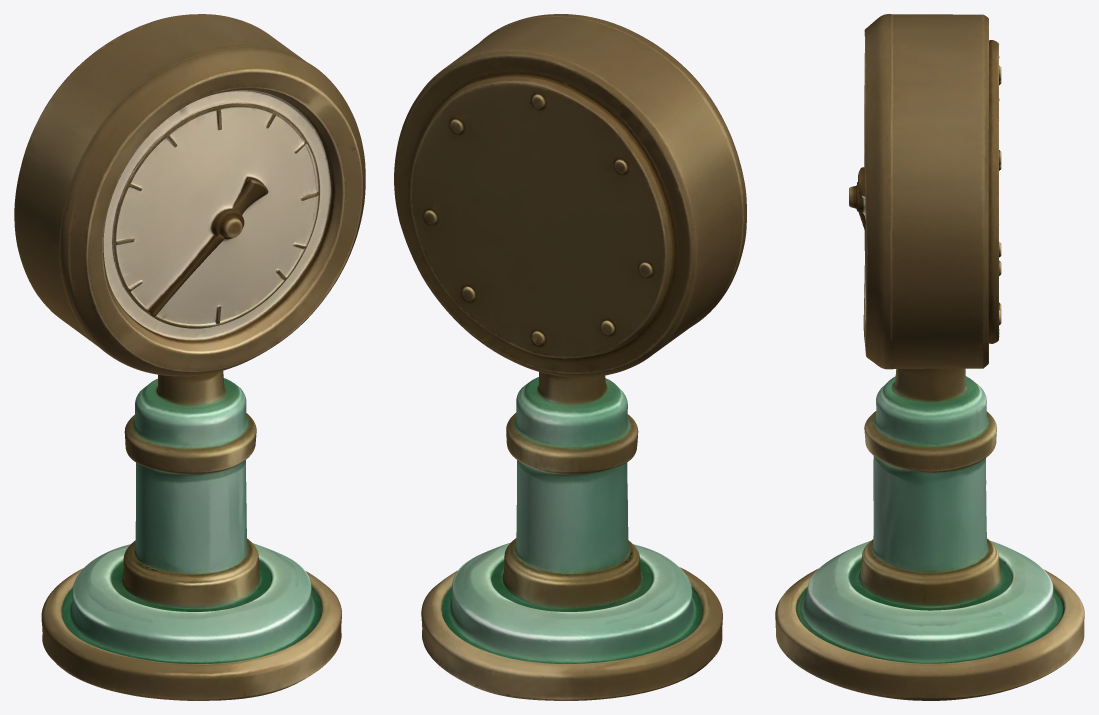
The model's file is act1_gauge_stand_rodin.glb.
3 views of the same model, side by side, from view 1: azimuth 30°, elevation 25°; view 2: azimuth 150°, elevation 25°; view 3: azimuth 270°, elevation 25° (orthographic).
Parts seen in each view (by area): view 1: model; view 2: model; view 3: model.
Part boxes in pixels (box(x1,y1,x2,y2)): model: box(14, 14, 365, 700); model: box(394, 14, 746, 700); model: box(775, 14, 1084, 700).
Bounding box in the file's own units: 0.5258 × 1 × 0.4623.
1 material, 1 textured.
